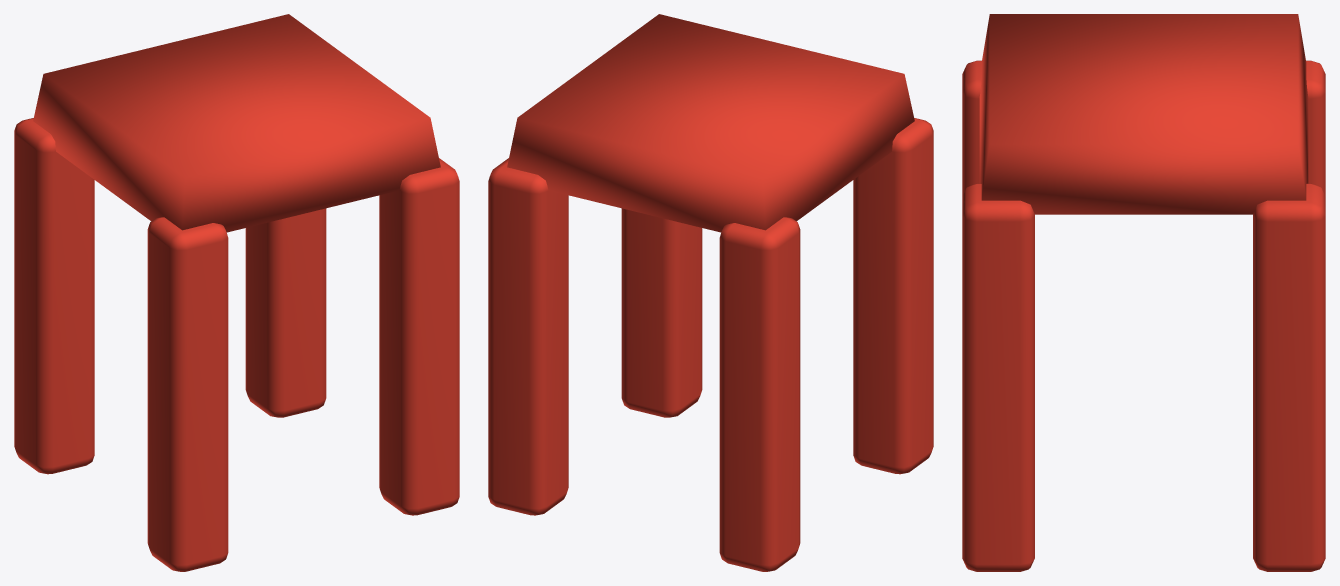
The model's file is stool_red.glb.
3 views of the same model, side by side, from view 1: azimuth 30°, elevation 25°; view 2: azimuth 150°, elevation 25°; view 3: azimuth 270°, elevation 25° (orthographic). The views are drawn at different scales.
Parts seen in each view (by area): view 1: Seat, Leg, Leg.002, Leg.001, Leg.003; view 2: Seat, Leg.001, Leg.003, Leg, Leg.002; view 3: Seat, Leg.002, Leg.003, Leg, Leg.001.
Part boxes in pixels (x1,y1,x2,y2): Seat: (33, 14, 440, 232); Leg: (147, 217, 228, 571); Leg.002: (379, 158, 459, 515); Leg.001: (14, 118, 94, 474); Leg.003: (245, 208, 326, 417); Seat: (507, 14, 914, 232); Leg.001: (719, 217, 800, 571); Leg.003: (488, 158, 568, 515); Leg: (853, 118, 933, 474); Leg.002: (621, 208, 702, 417); Seat: (979, 14, 1308, 214); Leg.002: (962, 183, 1034, 571); Leg.003: (1253, 183, 1325, 571); Leg: (962, 60, 981, 196); Leg.001: (1306, 60, 1325, 196).
Bounding box in the file's own units: 0.25 × 0.32 × 0.25.
